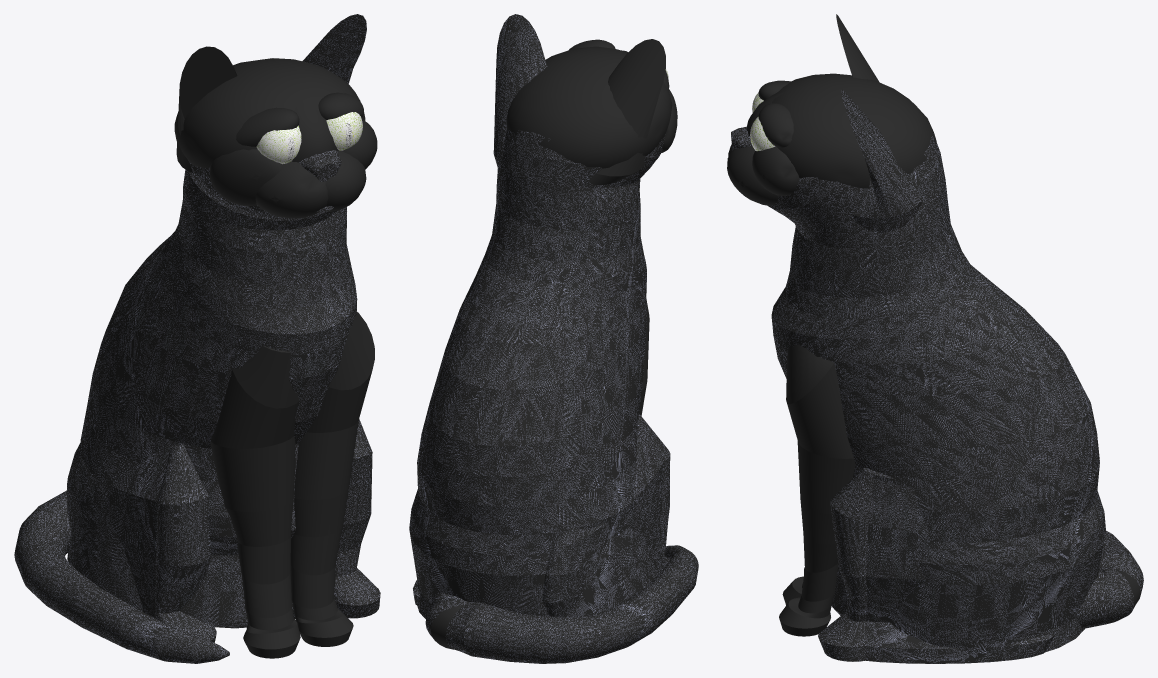
3 renders of one model, left to right at view 1: azimuth 30°, elevation 25°; view 2: azimuth 150°, elevation 25°; view 3: azimuth 270°, elevation 25°, orthographic. The views are drawn at different scales.
Parts seen in each view (by area): view 1: Black_Cat (×2), FrontLeg_1, BackLeg, FrontLeg, Tail, Cheek (×6), Padding (×2), BackLeg_1, Ear, Ear_1, CatEye (×2); view 2: Black_Cat, Tail (×3), Padding, BackLeg, Ear, Ear_1, FrontLeg_1, Cheek; view 3: Black_Cat, BackLeg_1, FrontLeg, Padding, Ear_1, Cheek (×3), Tail (×2), Ear.
Part boxes in pixels (x1=…): Black_Cat (×2): x1=69, y1=150, x2=357, y2=628; FrontLeg_1: x1=210, y1=345, x2=300, y2=658; BackLeg: x1=67, y1=442, x2=216, y2=642; FrontLeg: x1=290, y1=311, x2=374, y2=646; Tail: x1=14, y1=490, x2=229, y2=663; Cheek (×6): x1=209, y1=92, x2=377, y2=218; Padding (×2): x1=174, y1=58, x2=365, y2=168; BackLeg_1: x1=334, y1=419, x2=380, y2=618; Ear: x1=176, y1=46, x2=237, y2=172; Ear_1: x1=302, y1=14, x2=366, y2=83; CatEye (×2): x1=256, y1=112, x2=362, y2=164; Black_Cat: x1=409, y1=129, x2=665, y2=618; Tail (×3): x1=425, y1=545, x2=698, y2=663; Padding: x1=506, y1=46, x2=672, y2=168; BackLeg: x1=542, y1=414, x2=670, y2=617; Ear: x1=589, y1=39, x2=665, y2=184; Ear_1: x1=493, y1=14, x2=547, y2=167; FrontLeg_1: x1=639, y1=299, x2=649, y2=415; Cheek: x1=661, y1=89, x2=677, y2=152; Black_Cat: x1=768, y1=133, x2=1105, y2=659; BackLeg_1: x1=818, y1=467, x2=1054, y2=663; FrontLeg: x1=779, y1=345, x2=855, y2=636; Padding: x1=772, y1=73, x2=936, y2=188; Ear_1: x1=841, y1=89, x2=922, y2=233; Cheek (×3): x1=727, y1=103, x2=799, y2=205; Tail (×2): x1=804, y1=530, x2=1143, y2=628; Ear: x1=836, y1=14, x2=879, y2=82.
Size of the model in its own units: 10.45 by 14.91 by 22.43.
4 materials, 1 textured.
